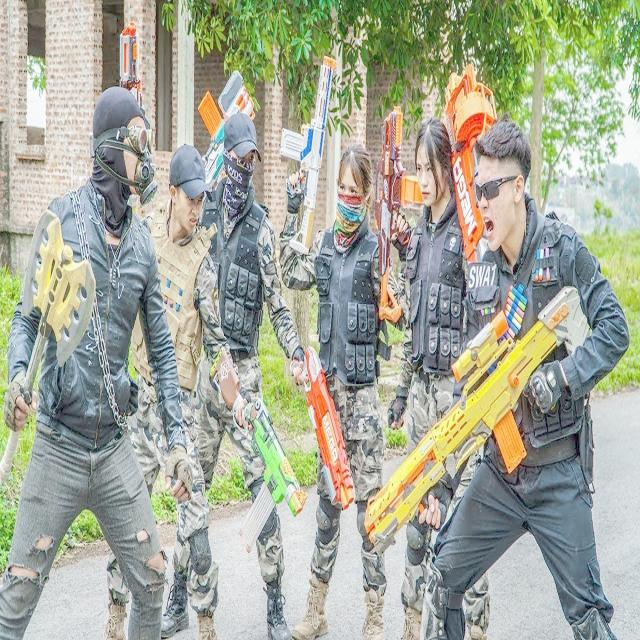Nerf gun: (364, 278, 596, 563), (206, 342, 306, 556), (438, 58, 501, 284), (368, 99, 425, 335), (290, 341, 358, 519), (278, 46, 330, 263), (182, 66, 260, 197), (113, 11, 148, 110)
